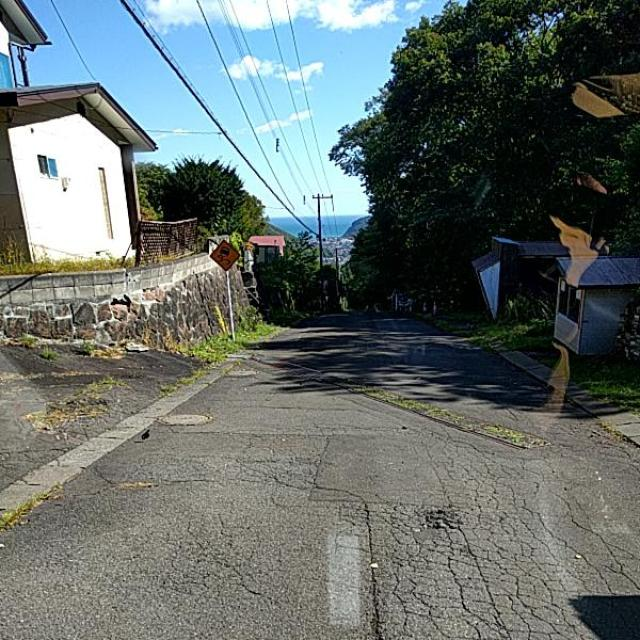Crack: (213, 391, 639, 640)
